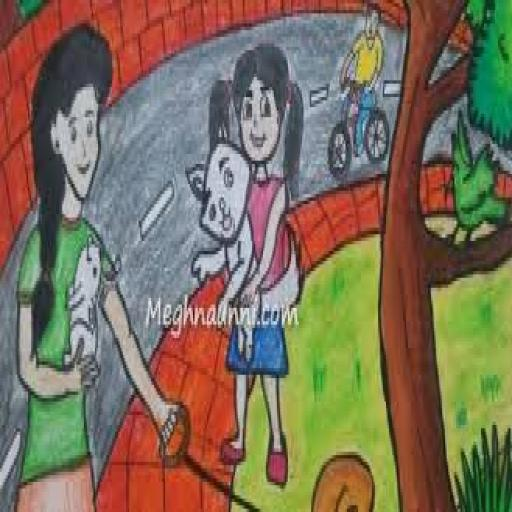person: (0, 0, 179, 505), (180, 37, 310, 485), (323, 0, 395, 194)
